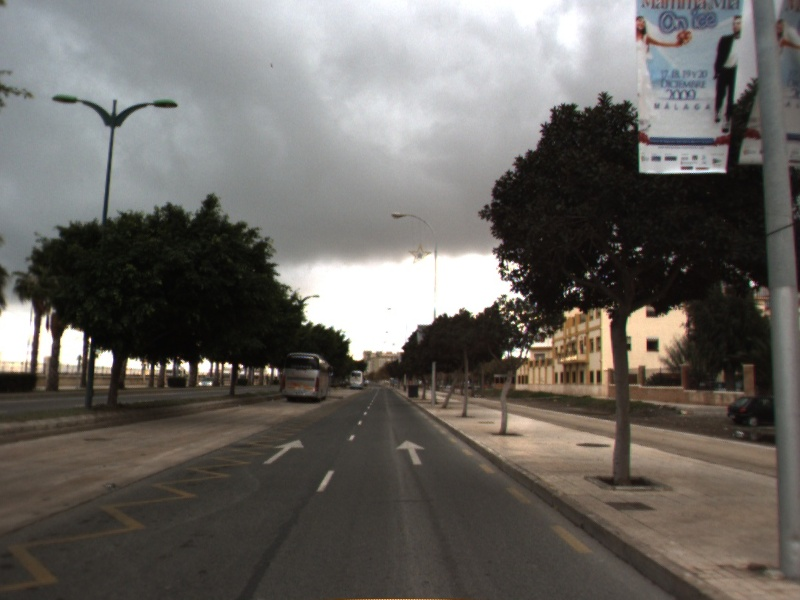STRAIGHT: (261, 437, 306, 466), (394, 438, 428, 467)
